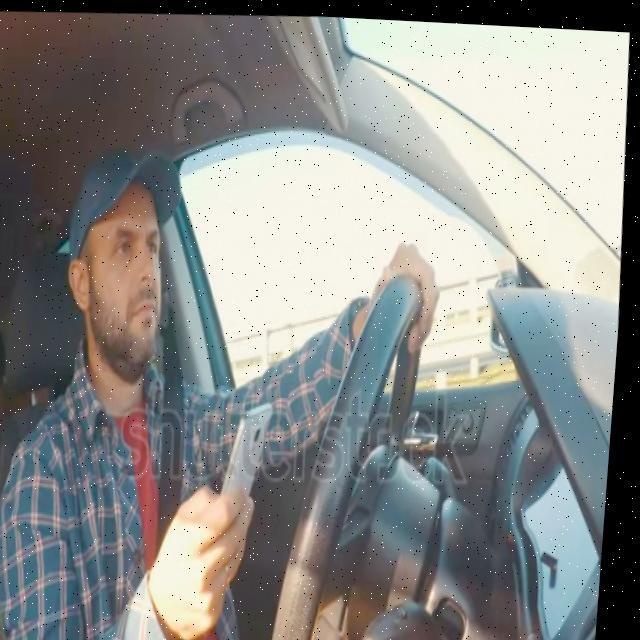PhoneCall: (222, 396, 282, 558)
